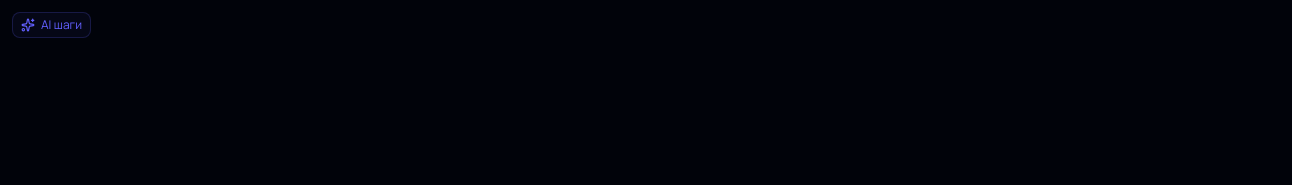
Scenario: AiSubtaskDraft › cancels without applying and validates an empty title
Later steps or results of the test are not shown.
Click the button "AI шаги": [52, 25] box [12,12,91,38]
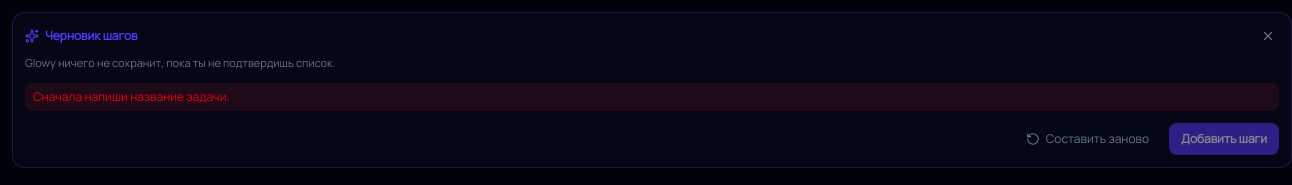
Now the message shows "Сначала напиши название задачи", box [33,88,230,105]
